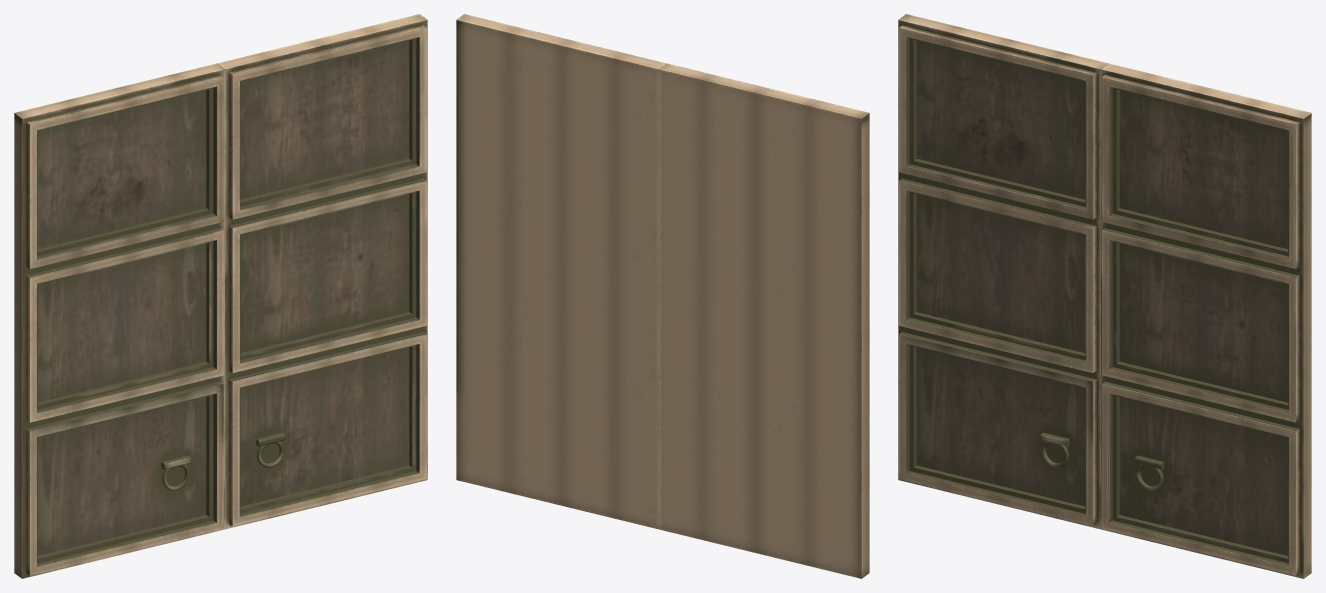
The model's file is SM_double_door.glb.
3 views of the same model, side by side, from view 1: azimuth 30°, elevation 25°; view 2: azimuth 150°, elevation 25°; view 3: azimuth 330°, elevation 25° (orthographic).
Visible parts, largest first — view 1: SM_double_door; view 2: SM_double_door; view 3: SM_double_door.
Boxes of the visible parts, x1,y1,x2,y2 form: SM_double_door: (14,14,427,578); SM_double_door: (456,14,869,578); SM_double_door: (898,14,1311,578).
Bounding box in the file's own units: 5.06 × 5.49 × 0.2478.
1 material, 1 textured.
